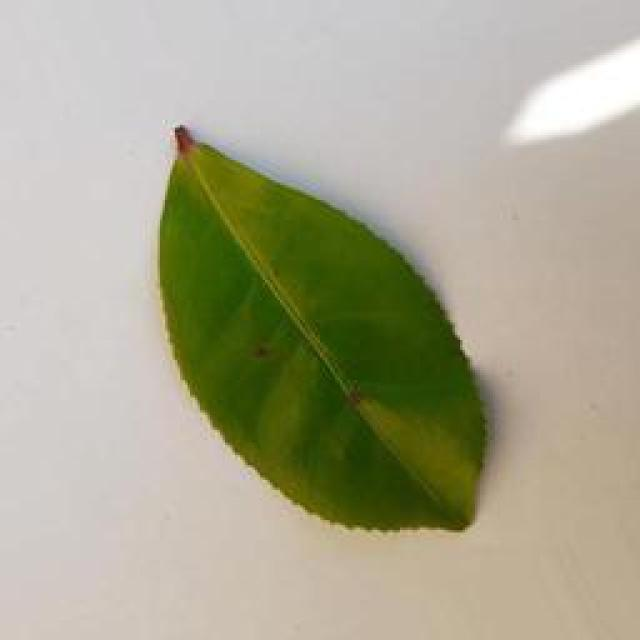Healthy: (140, 106, 496, 541)
